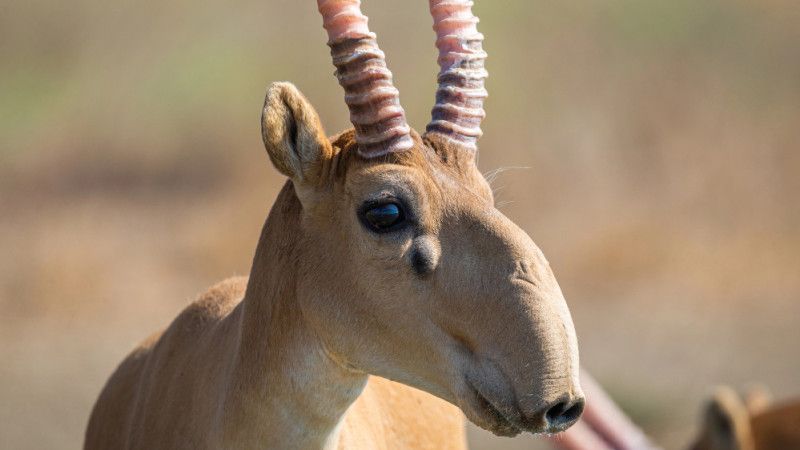saiga: (76, 6, 603, 444)
